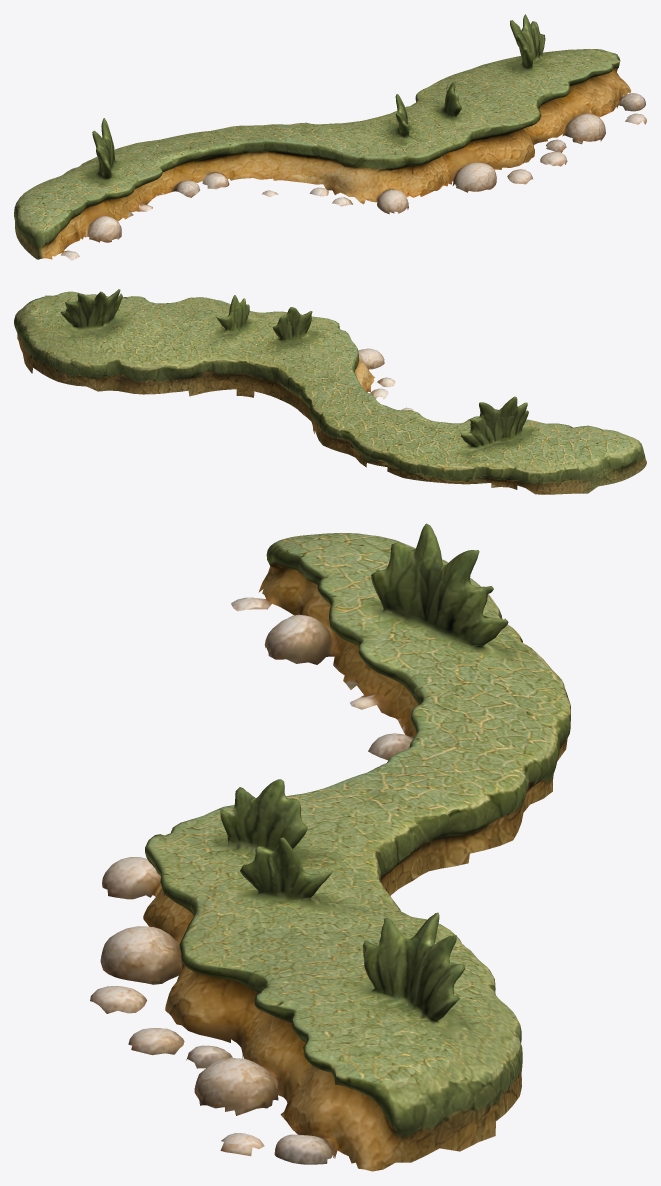
Rendered from coastal-land.glb.
3 renders of one model, top to bottom at view 1: azimuth 30°, elevation 25°; view 2: azimuth 150°, elevation 25°; view 3: azimuth 270°, elevation 25°, orthographic. The views are drawn at different scales.
Parts seen in each view (by area): view 1: tripo_node_f7c10860-0ac1-493f-a785-8d8076e60e80; view 2: tripo_node_f7c10860-0ac1-493f-a785-8d8076e60e80; view 3: tripo_node_f7c10860-0ac1-493f-a785-8d8076e60e80.
Boxes of the visible parts, box(x1,y1,x2,y2) form: tripo_node_f7c10860-0ac1-493f-a785-8d8076e60e80: box(14, 14, 646, 260); tripo_node_f7c10860-0ac1-493f-a785-8d8076e60e80: box(14, 289, 646, 494); tripo_node_f7c10860-0ac1-493f-a785-8d8076e60e80: box(90, 523, 570, 1171).
Bounding box in the file's own units: 0.9425 × 0.1263 × 0.3241.
1 material, 1 textured.
